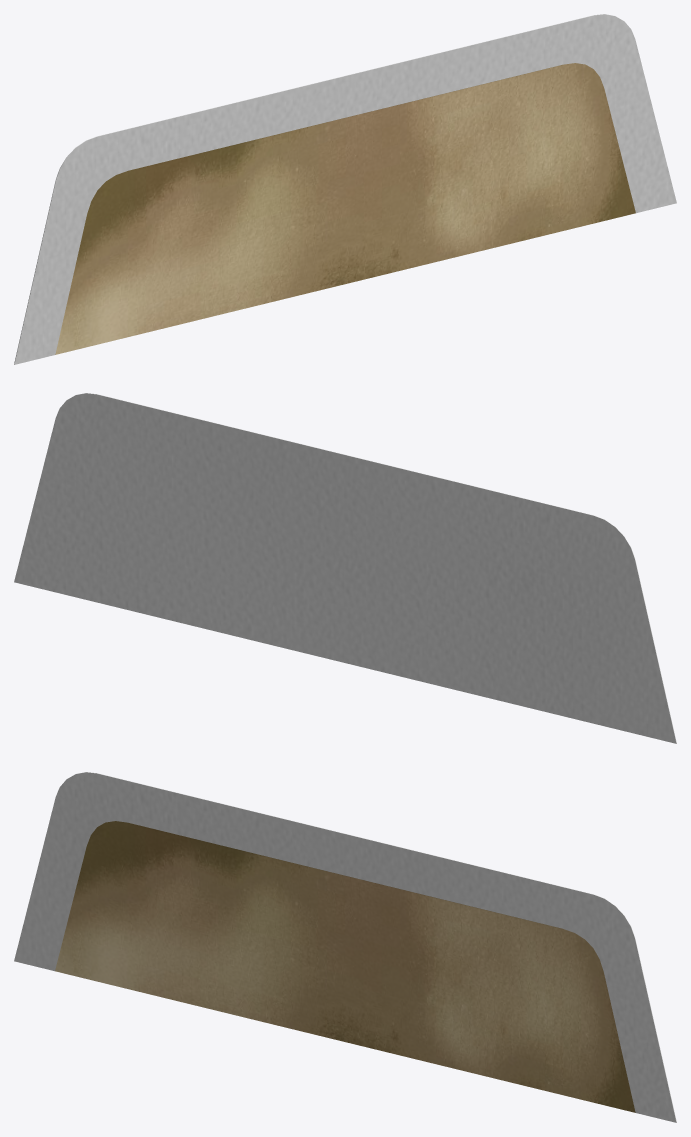
File: EnvelopeFlap-VZCmhQ7o.glb
3 renders of one model, top to bottom at view 1: azimuth 30°, elevation 25°; view 2: azimuth 150°, elevation 25°; view 3: azimuth 330°, elevation 25°, orthographic.
Visible parts, largest first — view 1: grid1; view 2: grid1; view 3: grid1.
Part boxes in pixels (box(x1,y1,x2,y2)): grid1: box(14, 14, 676, 364); grid1: box(14, 393, 676, 743); grid1: box(14, 772, 676, 1122).
Bounding box in the file's own units: 1 × 0.3 × 0.001.
2 materials, 2 textured.
